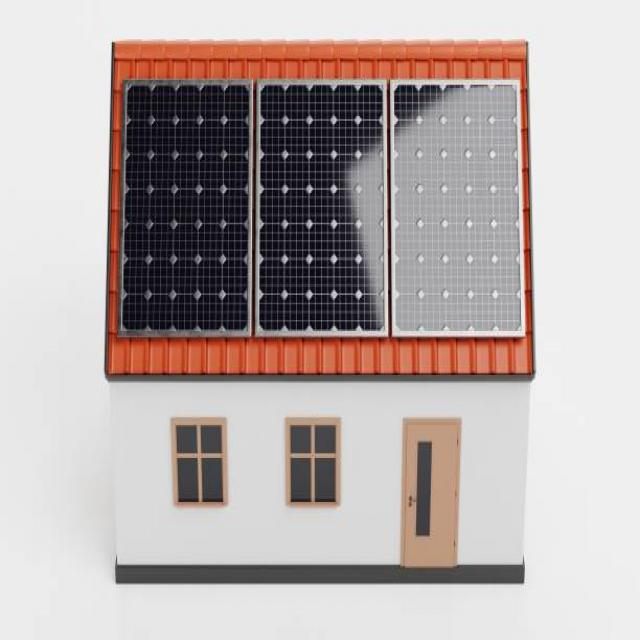no faulty: (392, 81, 525, 338), (255, 80, 388, 334), (120, 80, 251, 335)
